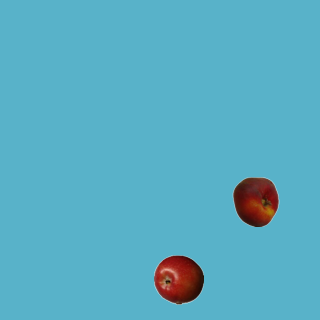Apple Braeburn: (153, 254, 203, 304)
Nectarine Flat: (230, 176, 280, 226)
